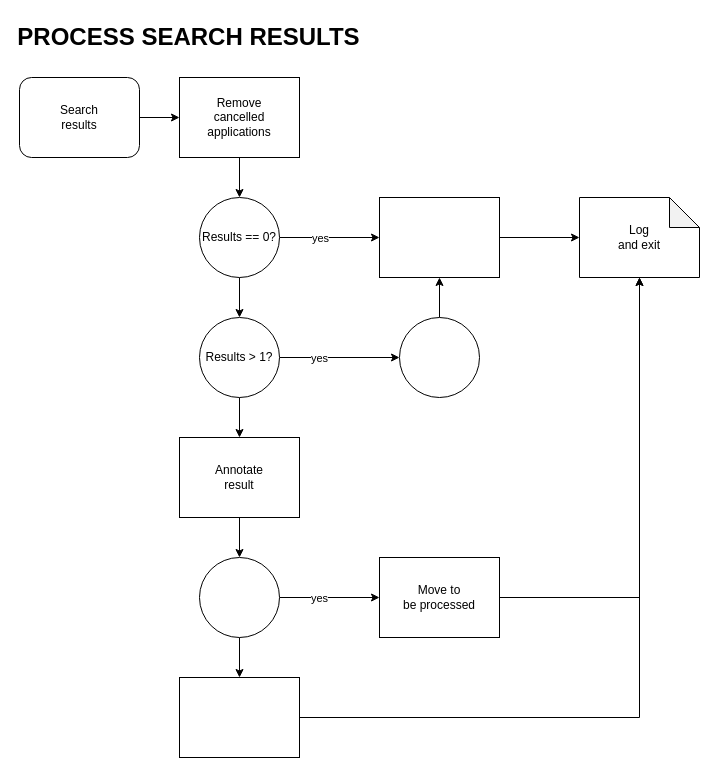
The diagram is 717 pixels wide and 775 high, and some of its shapes have lost their labels. Here are the shapes that lost their labels. From the top down, the centre of each, then its label:
At pixel 439 237: "Move to issues".
At pixel 439 357: "More than 1 student?".
At pixel 239 597: "Central?".
At pixel 239 717: "Forward to faculty or faculties".
